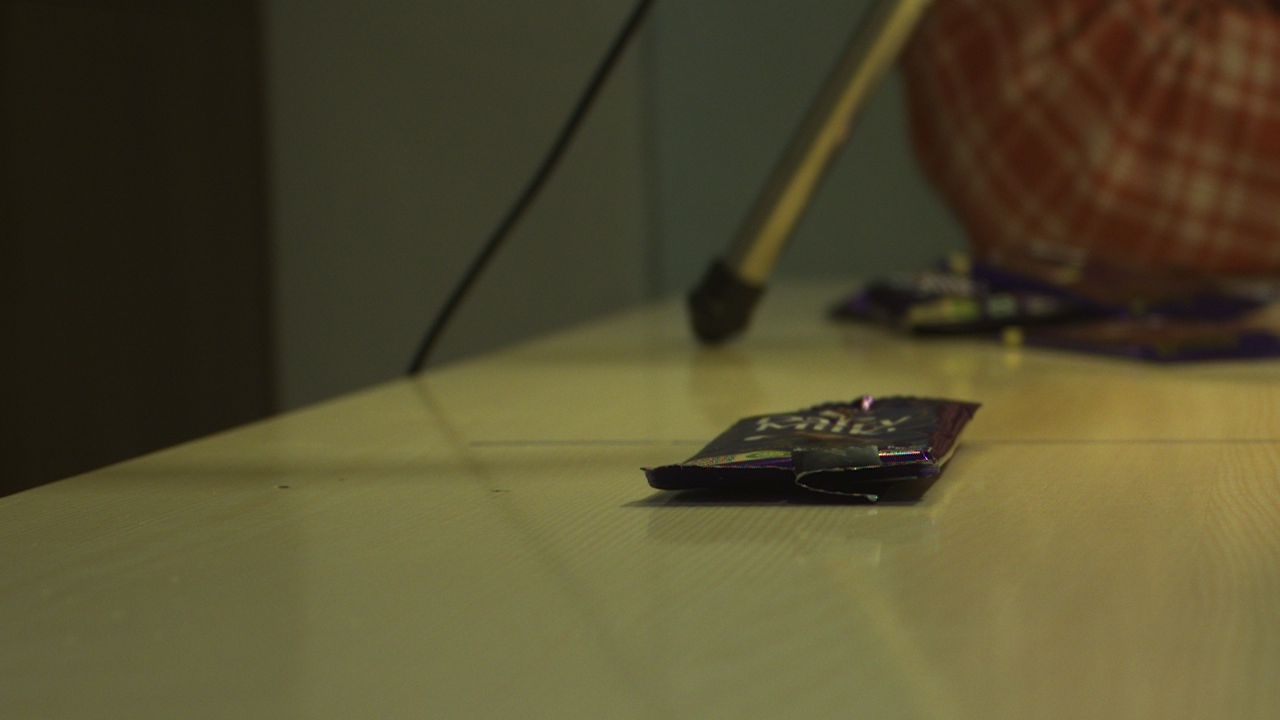Good: (666, 449, 931, 507)
